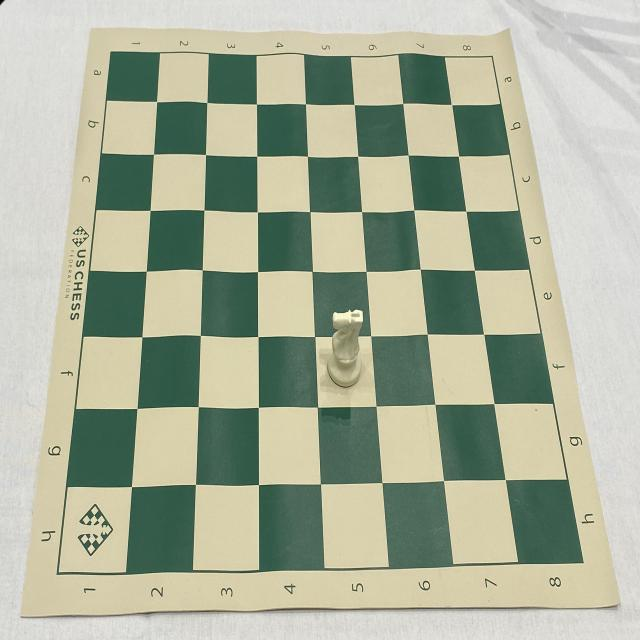white-knight: (326, 309, 364, 390)
